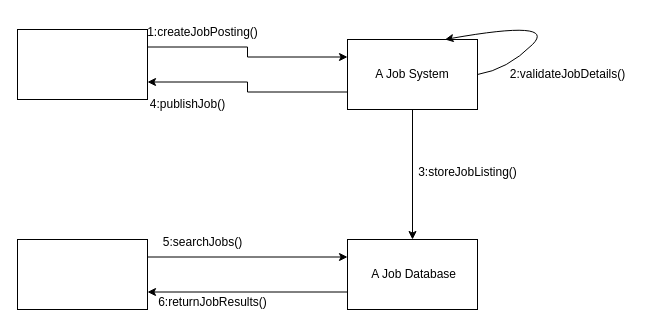
Image size: 655x334. Some labels were removed from this diagram. The shapes that lost their labels are listed below. From the top down, each one's centre as x and y in pixels, then its label:
the point at 82,64: A Recrutiter
the point at 82,274: A Candidate
